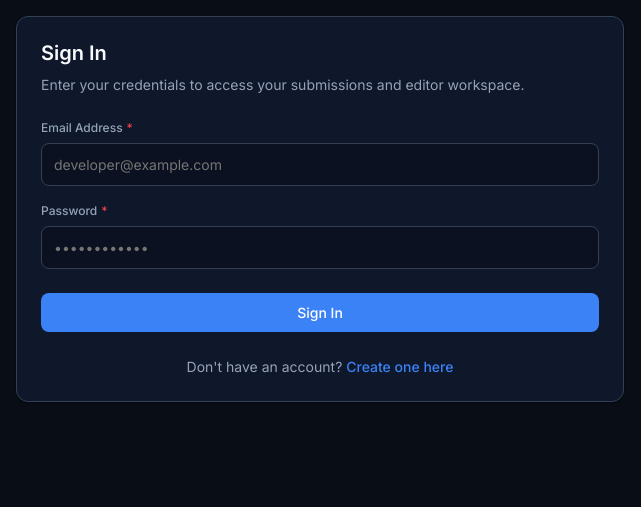
it: LoginPage › displays backend authentication error message when credentials fail
This screenshot has width=641, height=507.
Type "dev@example.com" into the field labelled "Email Address*".
click(320, 164); type("dev@example.com")  # box [41,143,599,186]
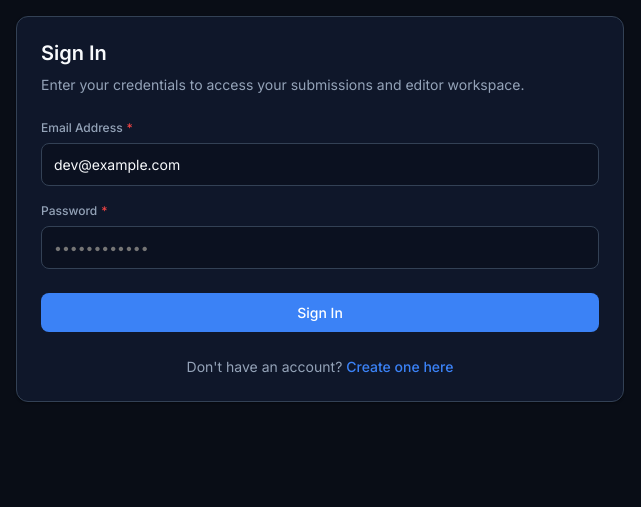
Type "wrongpassword" into the password field labelled "Password*".
click(320, 248); type("wrongpassword")  # box [41,226,599,269]
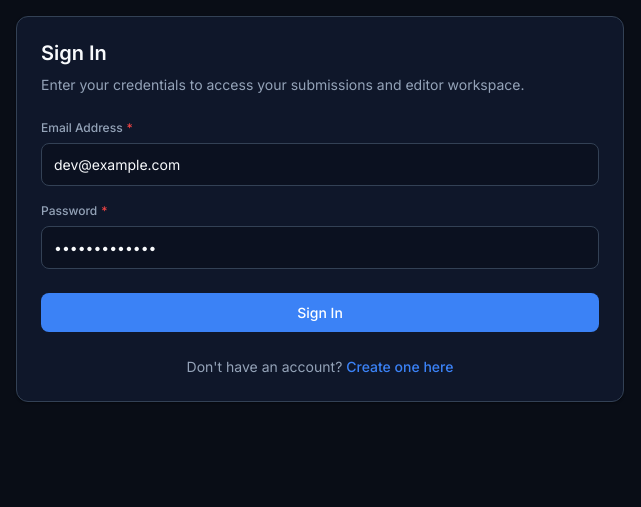
Click the button "Sign In".
click(320, 312)  # box [41,293,599,332]
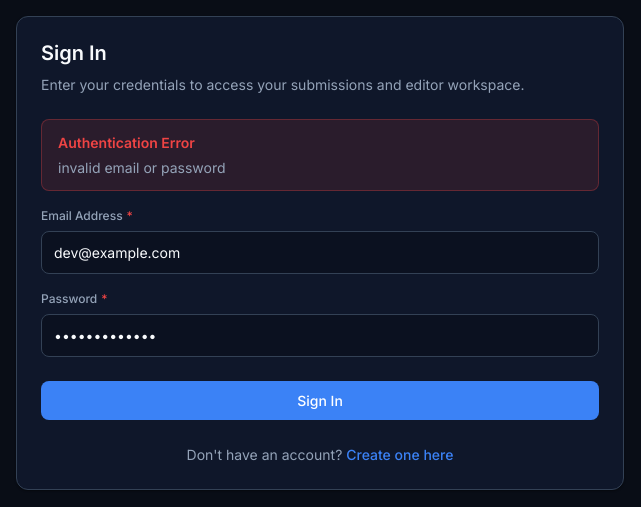
Result: the text "invalid email or password" is shown at [58,159,226,176]
